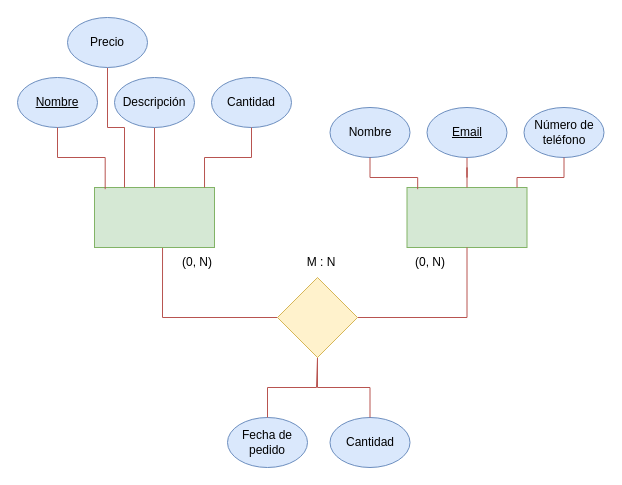
The diagram is 622 pixels wide and 485 high, and some of its shapes have lost their labels. Here are the shapes that lost their labels. From the top down, the box of each, then its label:
(94, 186, 214, 248): Productos
(406, 186, 527, 248): Clientes
(276, 276, 358, 358): Pedido
